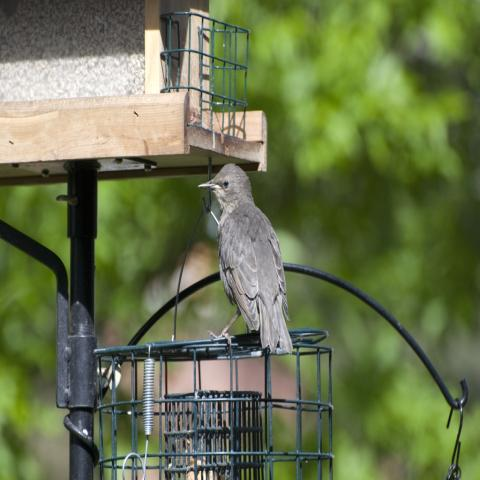bird: (196, 160, 295, 356)
